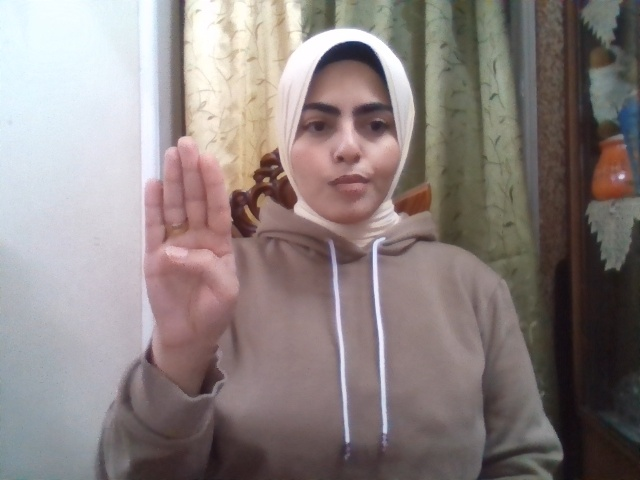B: (143, 137, 240, 350)
